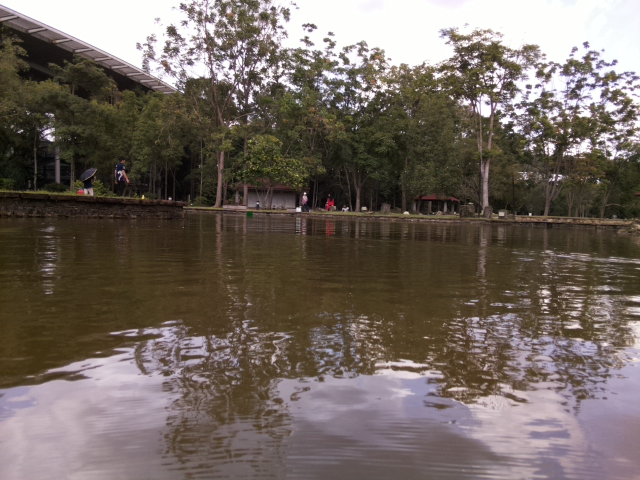obstacle: (245, 211, 253, 218)
